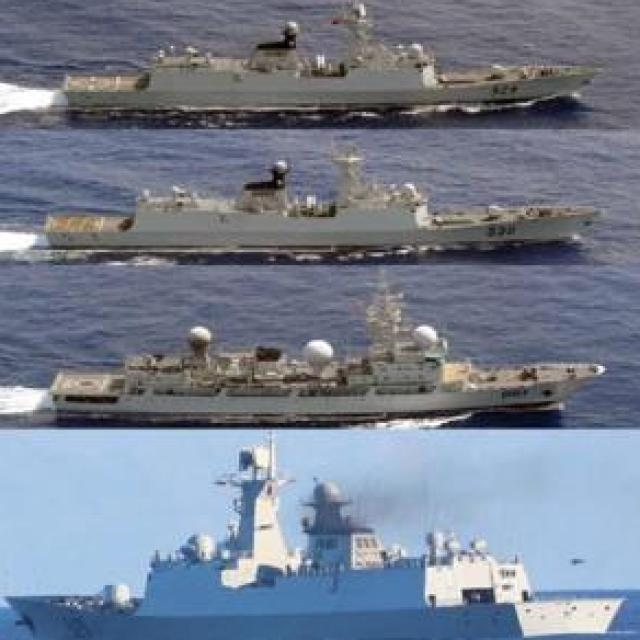navalvessels: (11, 456, 631, 640), (31, 295, 608, 421), (54, 11, 594, 130), (28, 153, 594, 264)
